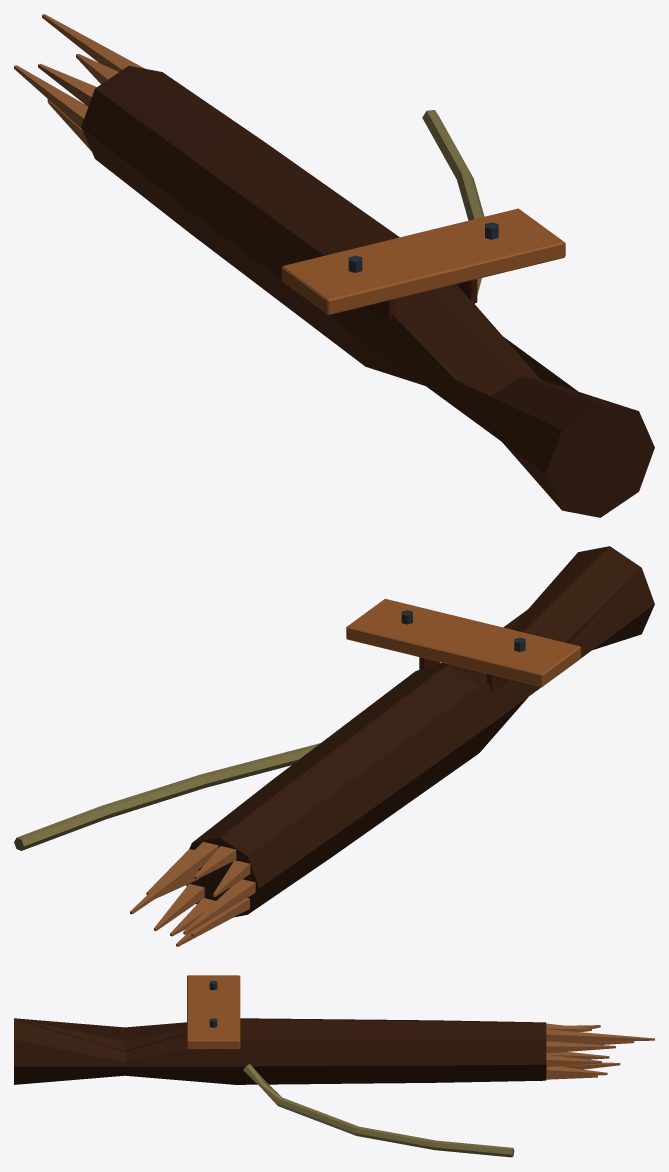
The model's file is DEBRIS_09_BrokenDockTimber.obj.
3 renders of one model, top to bottom at view 1: azimuth 30°, elevation 25°; view 2: azimuth 150°, elevation 25°; view 3: azimuth 270°, elevation 25°, orthographic. The views are drawn at different scales.
Parts seen in each view (by area): view 1: DEBRIS_09_BrokenDockTimber_Pile, DEBRIS_09_BrokenDockTimber_Decking_Plank, DEBRIS_09_BrokenDockTimber_Splintered_End, DEBRIS_09_BrokenDockTimber_Rope, DEBRIS_09_BrokenDockTimber_Bracket; view 2: DEBRIS_09_BrokenDockTimber_Pile, DEBRIS_09_BrokenDockTimber_Decking_Plank, DEBRIS_09_BrokenDockTimber_Splintered_End, DEBRIS_09_BrokenDockTimber_Rope; view 3: DEBRIS_09_BrokenDockTimber_Pile, DEBRIS_09_BrokenDockTimber_Decking_Plank, DEBRIS_09_BrokenDockTimber_Splintered_End, DEBRIS_09_BrokenDockTimber_Rope.
Boxes of the visible parts, x1=… form: DEBRIS_09_BrokenDockTimber_Pile: x1=81, y1=65, x2=654, y2=517; DEBRIS_09_BrokenDockTimber_Decking_Plank: x1=281, y1=208, x2=565, y2=315; DEBRIS_09_BrokenDockTimber_Splintered_End: x1=14, y1=14, x2=144, y2=150; DEBRIS_09_BrokenDockTimber_Rope: x1=422, y1=110, x2=484, y2=303; DEBRIS_09_BrokenDockTimber_Bracket: x1=370, y1=279, x2=477, y2=322; DEBRIS_09_BrokenDockTimber_Pile: x1=186, y1=546, x2=654, y2=917; DEBRIS_09_BrokenDockTimber_Decking_Plank: x1=346, y1=598, x2=580, y2=686; DEBRIS_09_BrokenDockTimber_Splintered_End: x1=130, y1=842, x2=255, y2=946; DEBRIS_09_BrokenDockTimber_Rope: x1=14, y1=743, x2=320, y2=850; DEBRIS_09_BrokenDockTimber_Pile: x1=14, y1=1018, x2=546, y2=1084; DEBRIS_09_BrokenDockTimber_Decking_Plank: x1=187, y1=975, x2=240, y2=1049; DEBRIS_09_BrokenDockTimber_Splintered_End: x1=546, y1=1023, x2=654, y2=1079; DEBRIS_09_BrokenDockTimber_Rope: x1=243, y1=1064, x2=514, y2=1157.
Bounding box in the file's own units: 1.17 × 0.41 × 2.89.
